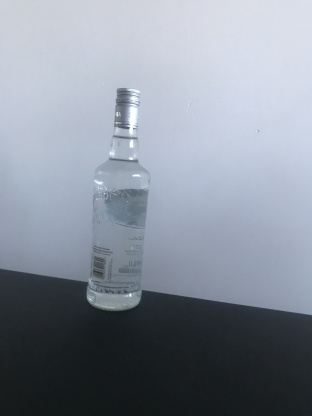nakretka: (112, 86, 141, 130)
